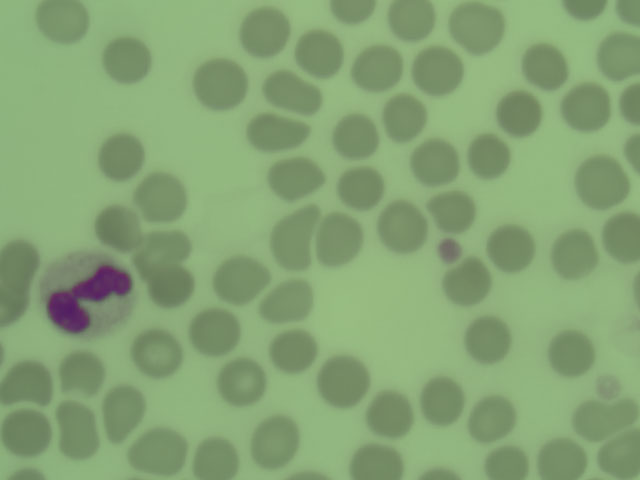Platelets: (439, 240, 461, 261)
RBC: (568, 392, 640, 437), (315, 205, 366, 262), (276, 201, 316, 271), (58, 398, 103, 460), (447, 1, 500, 51), (196, 59, 247, 109), (446, 258, 497, 308), (483, 218, 534, 268), (428, 185, 479, 235), (376, 198, 427, 248), (186, 430, 237, 480), (251, 417, 302, 467), (362, 385, 413, 435), (315, 355, 366, 405), (265, 327, 316, 377), (216, 357, 267, 407), (129, 418, 180, 468), (589, 28, 640, 78), (562, 82, 613, 132), (574, 155, 625, 205), (545, 231, 596, 281), (538, 320, 589, 370), (467, 388, 518, 438), (413, 376, 464, 426), (462, 320, 513, 370), (264, 63, 316, 111), (268, 153, 325, 196), (248, 107, 305, 149), (213, 254, 265, 299), (99, 382, 142, 435), (538, 434, 586, 480), (466, 133, 509, 184), (137, 177, 185, 221), (135, 229, 183, 273), (98, 134, 144, 179), (95, 200, 141, 245), (408, 138, 454, 183), (495, 89, 541, 134), (522, 42, 568, 87), (413, 44, 459, 89), (351, 41, 397, 86), (297, 29, 343, 74), (240, 7, 286, 52), (332, 114, 378, 159), (339, 165, 385, 210), (266, 275, 312, 320), (101, 37, 147, 82), (5, 408, 51, 453), (57, 349, 103, 394), (134, 321, 180, 366), (191, 305, 237, 350), (149, 263, 195, 308), (2, 357, 48, 402), (38, 1, 90, 40), (350, 443, 404, 480), (602, 212, 640, 264), (597, 436, 640, 480), (385, 1, 437, 34), (384, 95, 422, 140), (485, 441, 528, 480), (1, 236, 32, 288), (325, 1, 372, 24)
WBC: (40, 256, 130, 336)
